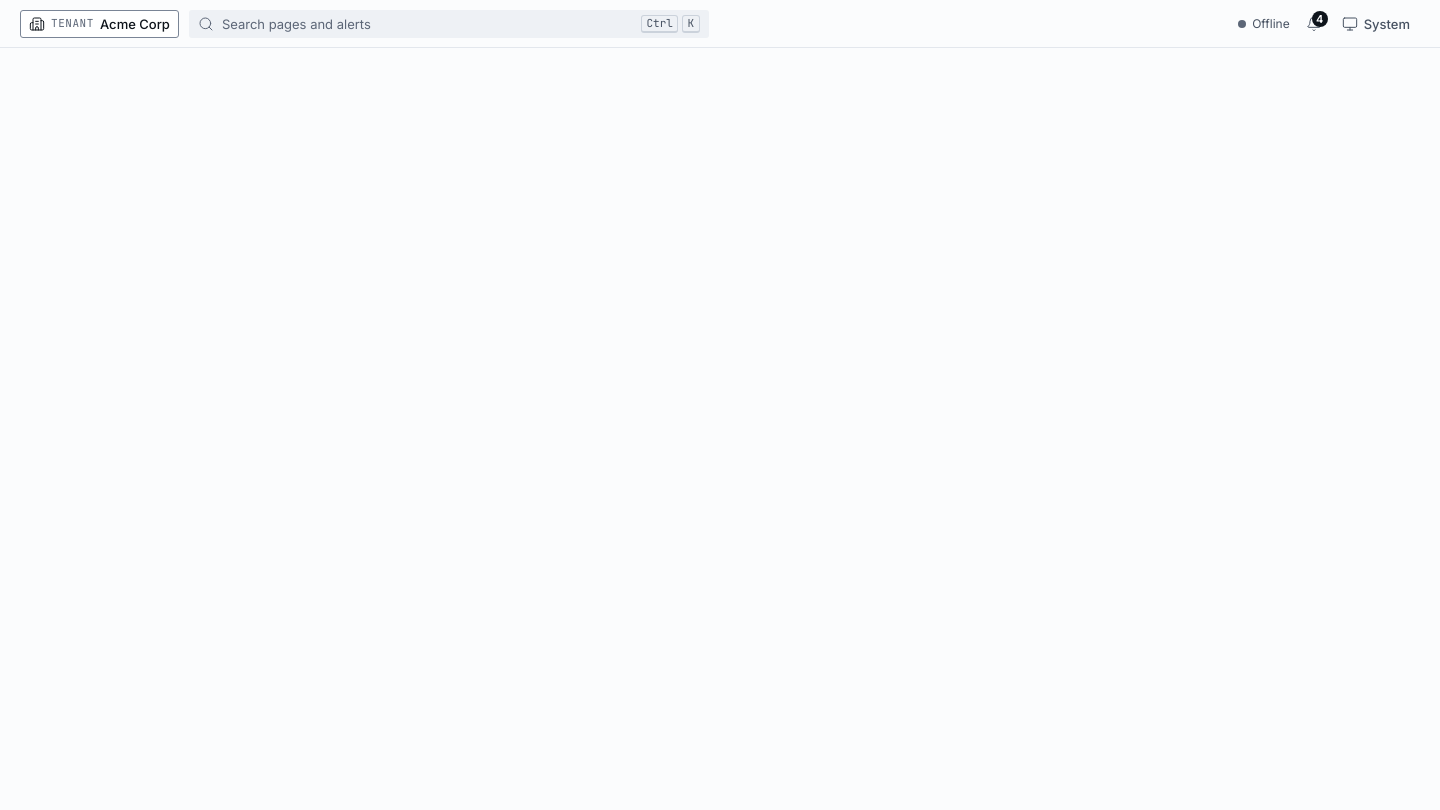
Test case: Notifications › lists what needs an act, each line with its tenant, and opens the page where the act happens
This screenshot has width=1440, height=810.
Click the button named "Notifications: 4 need an act" at coordinates (1314, 24), box [1300, 10, 1328, 38]
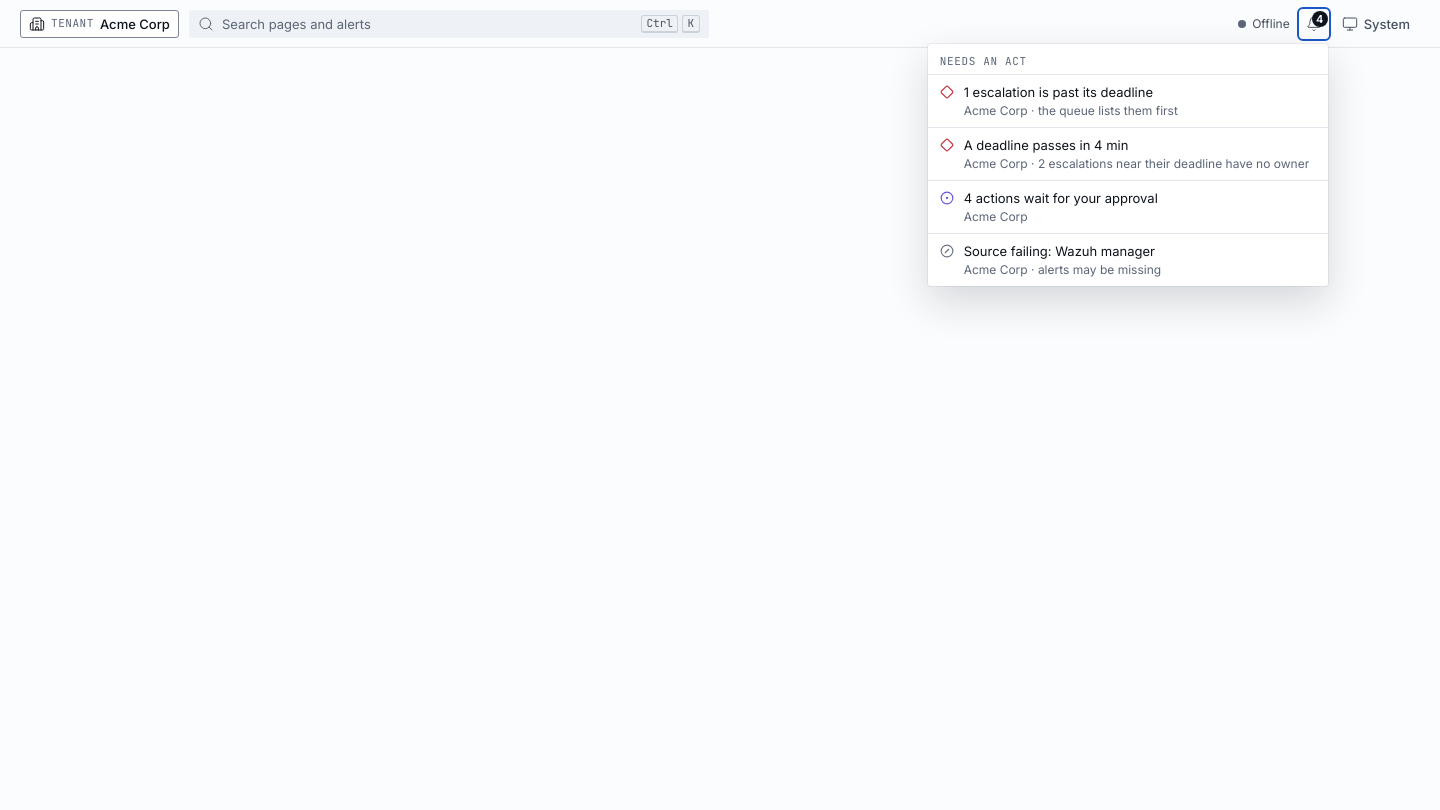
Click the link "4 actions wait for your approval Acme Corp" at coordinates (1049, 206), box [940, 190, 1158, 224]
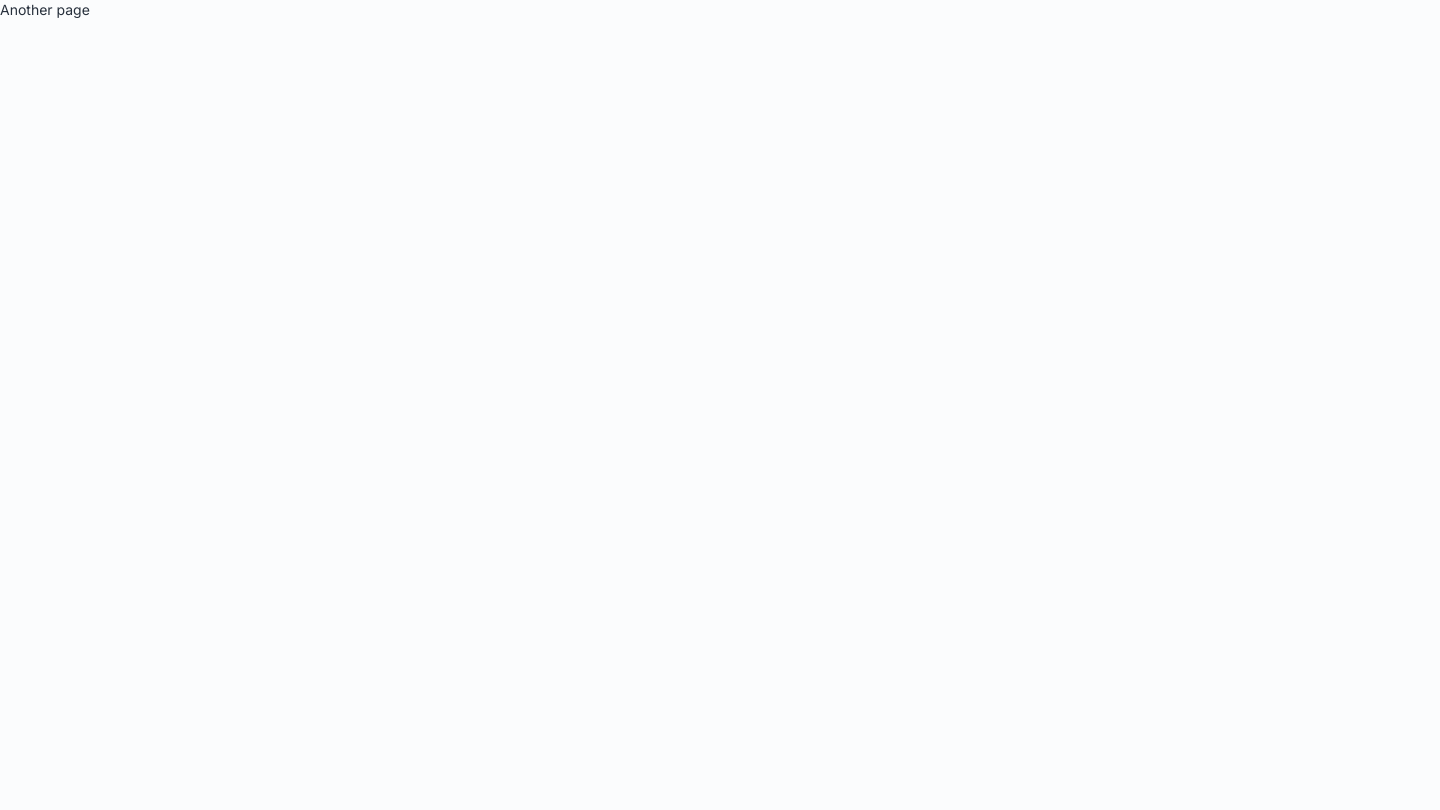
Expected: the heading "Another page" is shown, [0, 1, 90, 18]
